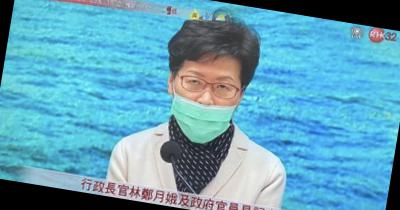mask_weared_incorrect: (165, 65, 244, 150)
